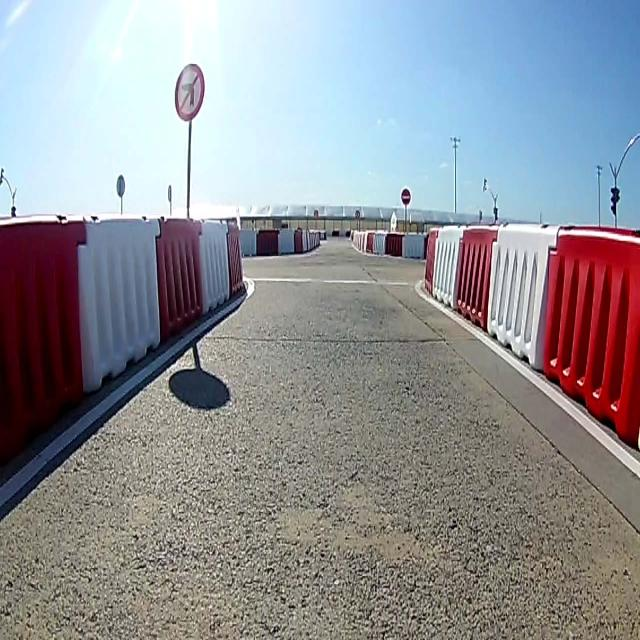girisyok: (399, 186, 411, 209)
soladonulmez: (175, 64, 204, 124)
